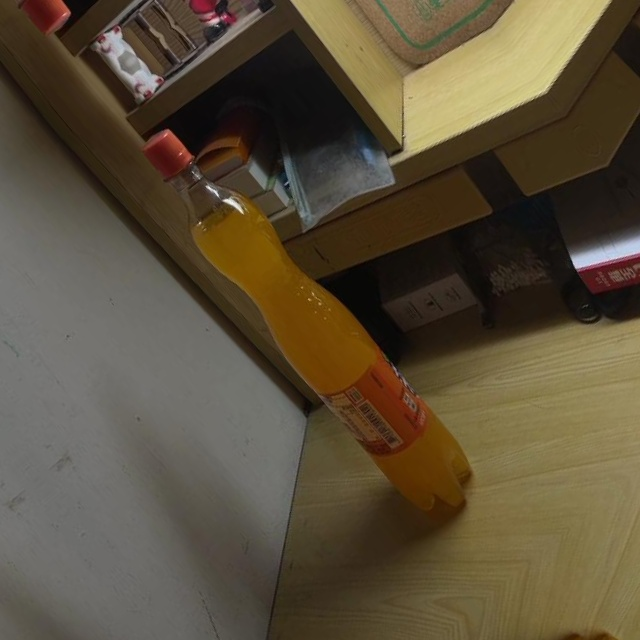Fanta: (119, 110, 491, 532)
